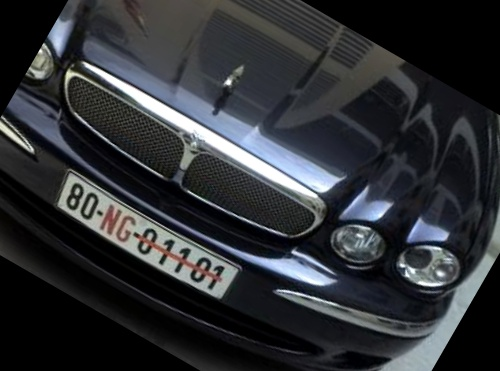plate: (52, 163, 248, 314)
